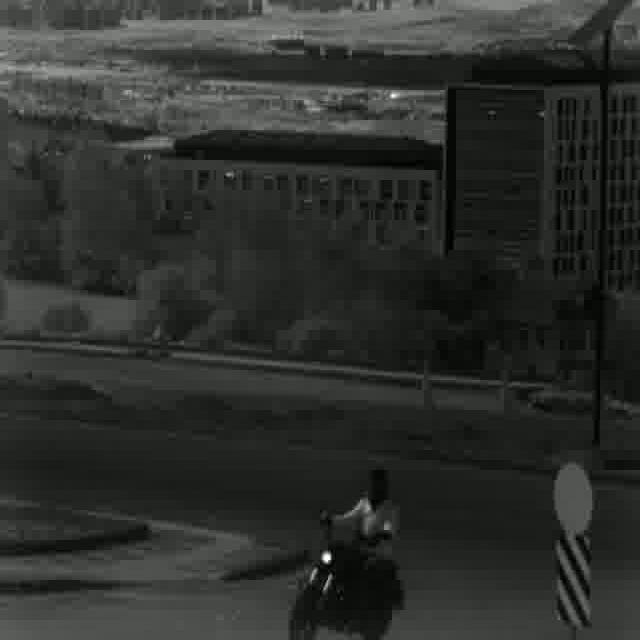Motorcycle: (286, 462, 410, 640)
